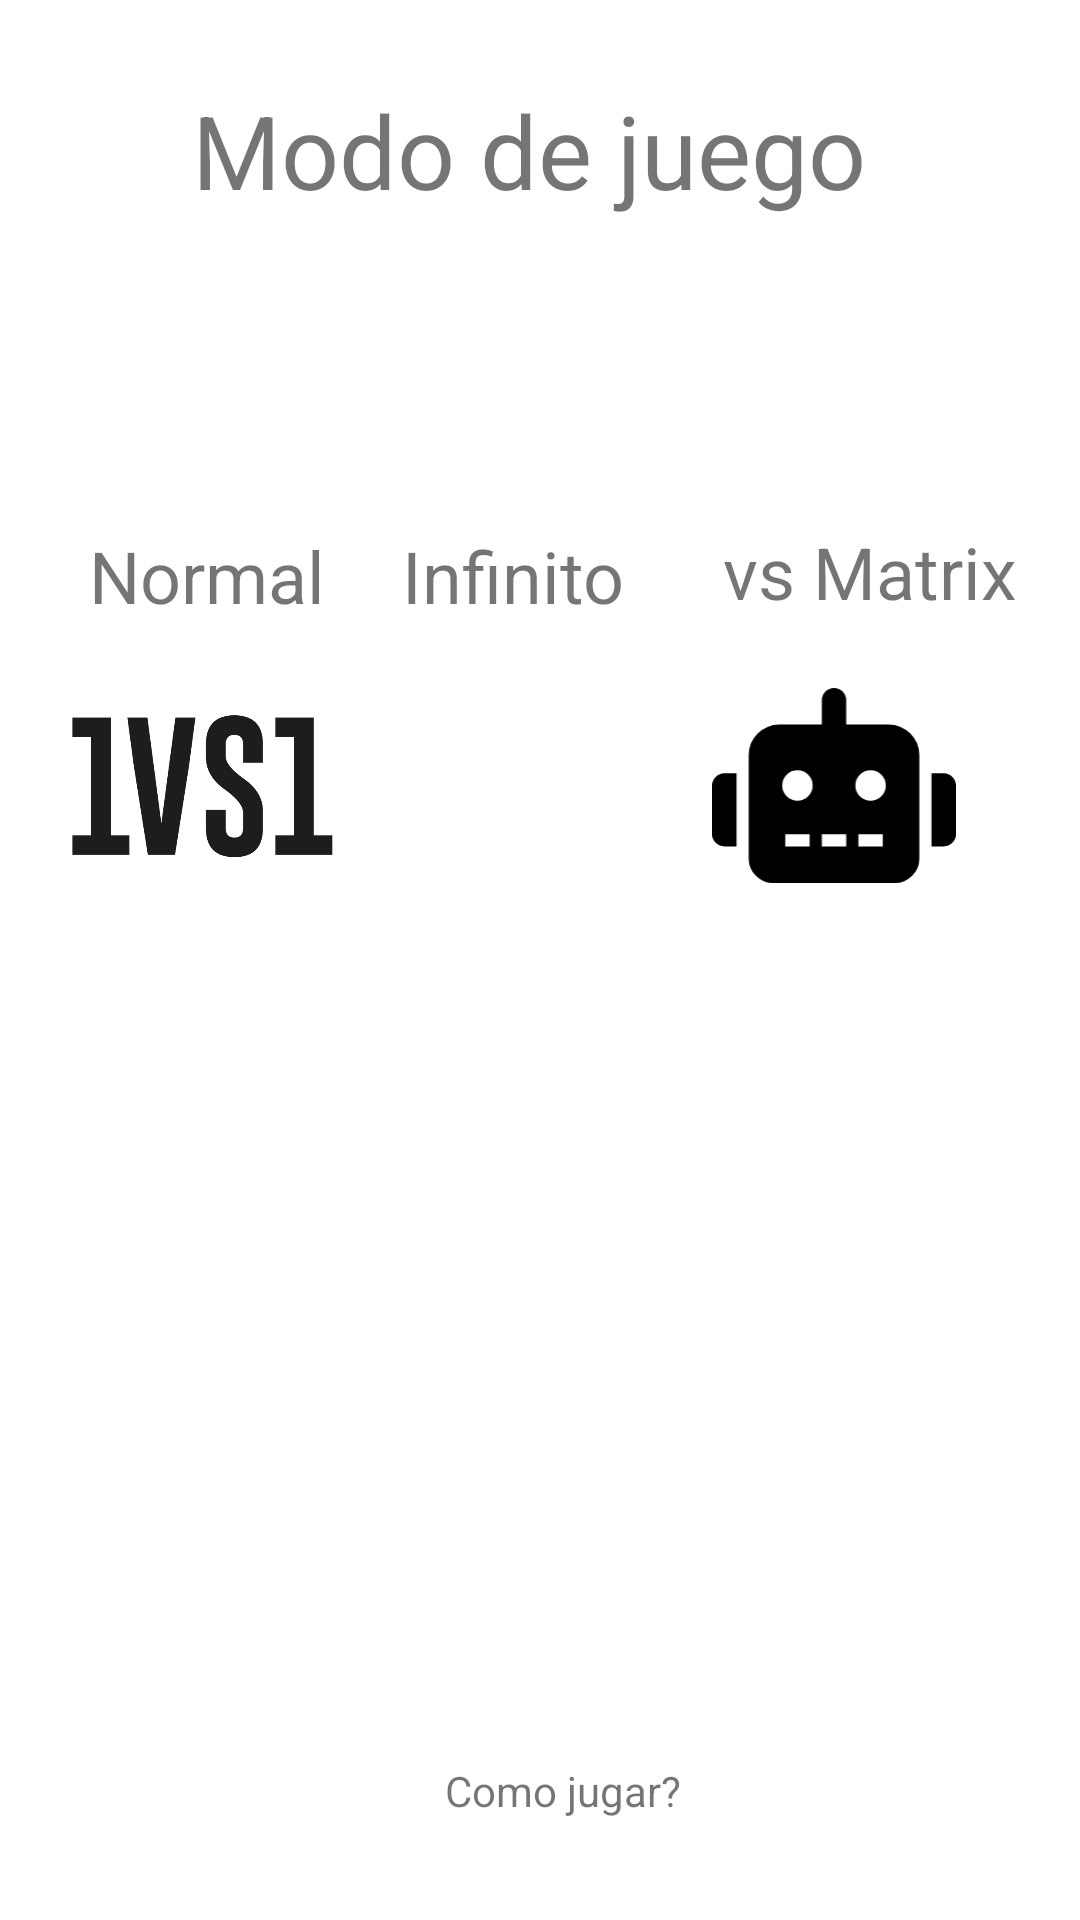

Icons on this 1080px×1920px Android screen, each with its box as region(x1, y1, x2, y2):
robot: region(712, 688, 956, 883)
